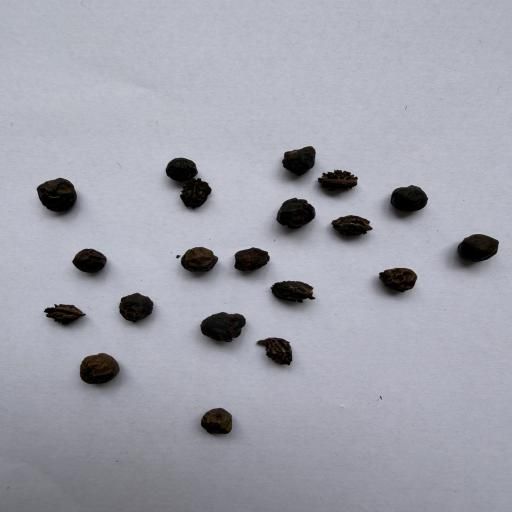Black_pepper: (442, 220, 506, 274), (193, 296, 252, 350), (77, 343, 135, 389), (30, 165, 83, 214), (387, 174, 437, 222), (190, 399, 242, 443), (223, 238, 278, 278), (59, 241, 119, 277), (270, 192, 320, 232), (178, 236, 225, 277), (378, 257, 423, 297), (116, 288, 162, 326), (276, 140, 320, 176), (158, 151, 206, 179)
papaya_seed: (254, 331, 305, 375), (35, 301, 104, 331), (330, 210, 392, 242), (263, 279, 326, 309), (177, 182, 223, 213)
